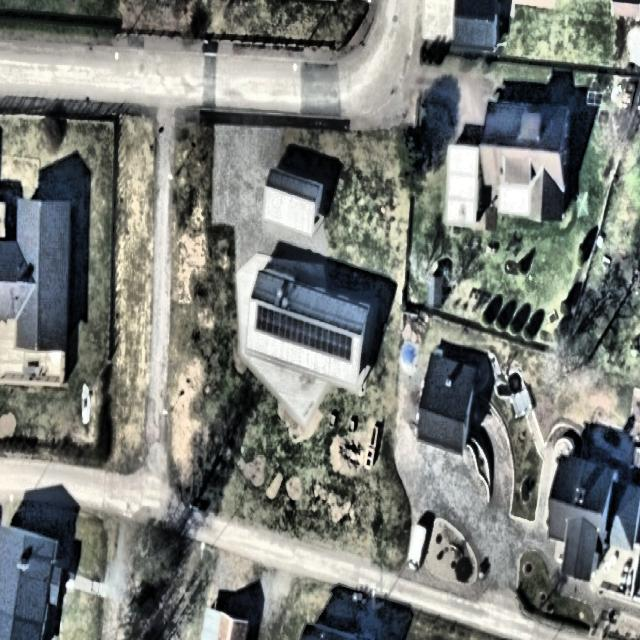roof_pv: (298, 315, 356, 368), (254, 303, 298, 349)
